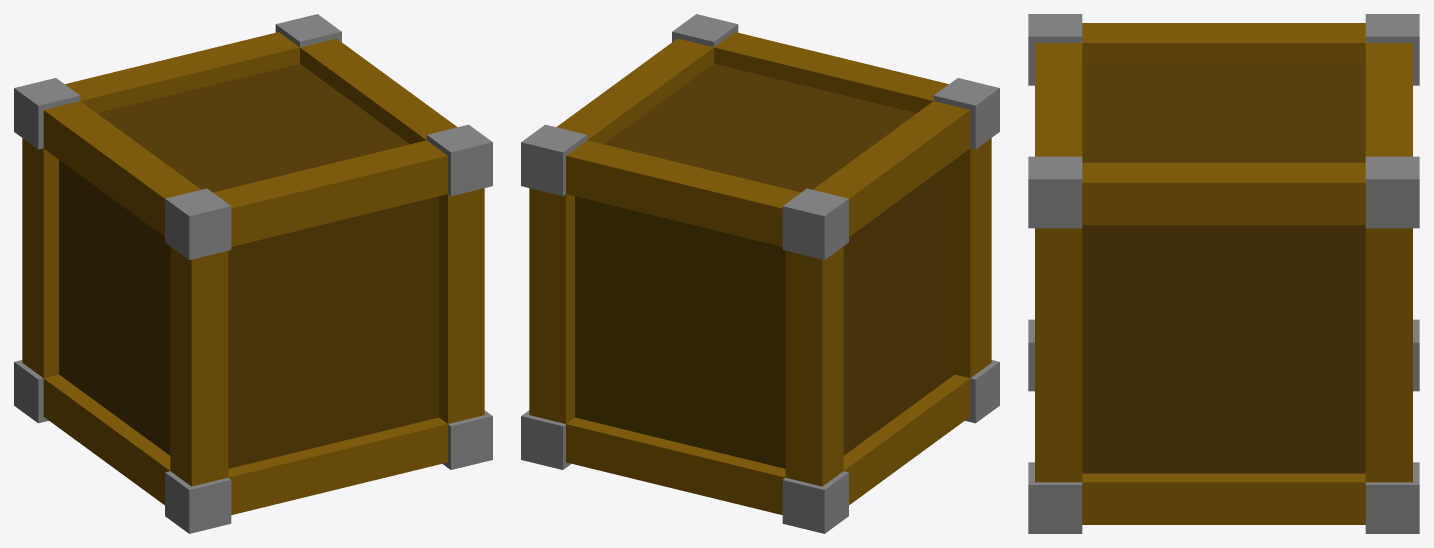
3 renders of one model, left to right at view 1: azimuth 30°, elevation 25°; view 2: azimuth 150°, elevation 25°; view 3: azimuth 270°, elevation 25°, orthographic. The views are drawn at different scales.
Parts seen in each view (by area): view 1: box_low; view 2: box_low; view 3: box_low.
Boxes of the visible parts, x1,y1,x2,y2 form: box_low: (14,14,492,533); box_low: (521,14,999,533); box_low: (1028,14,1419,533).
Size of the model in its own units: 104 by 104 by 104.
